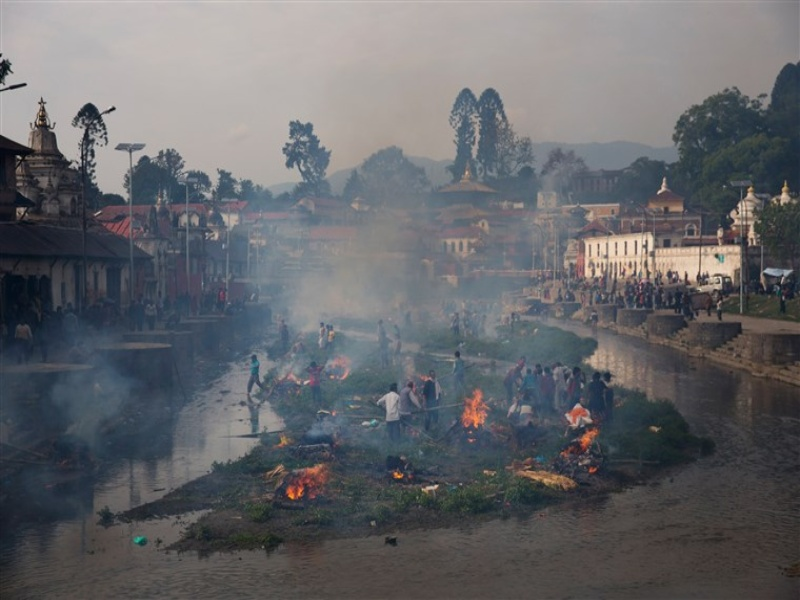smoke: (260, 201, 485, 334)
